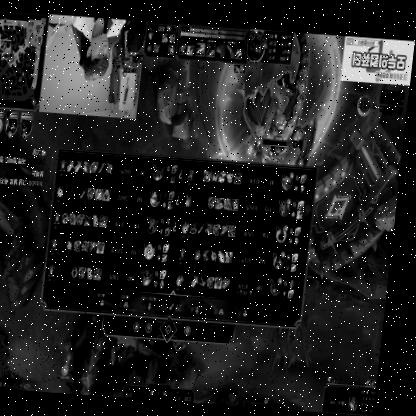streamer: (65, 15, 127, 82)
